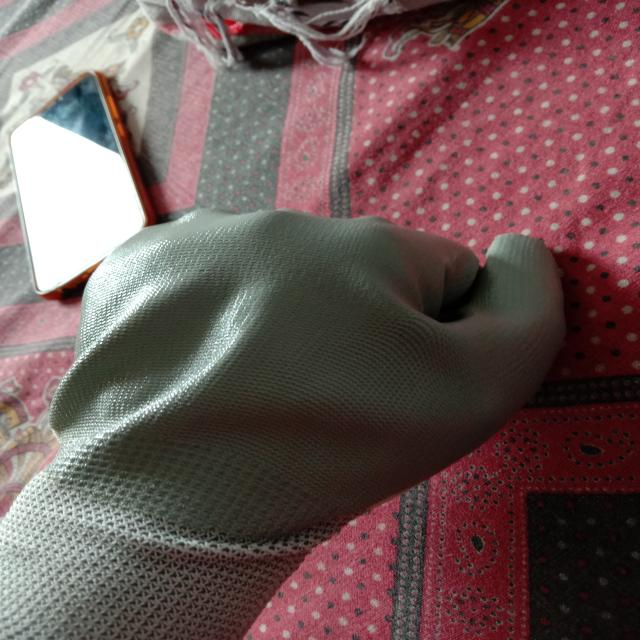Gloves: (14, 204, 568, 640)
